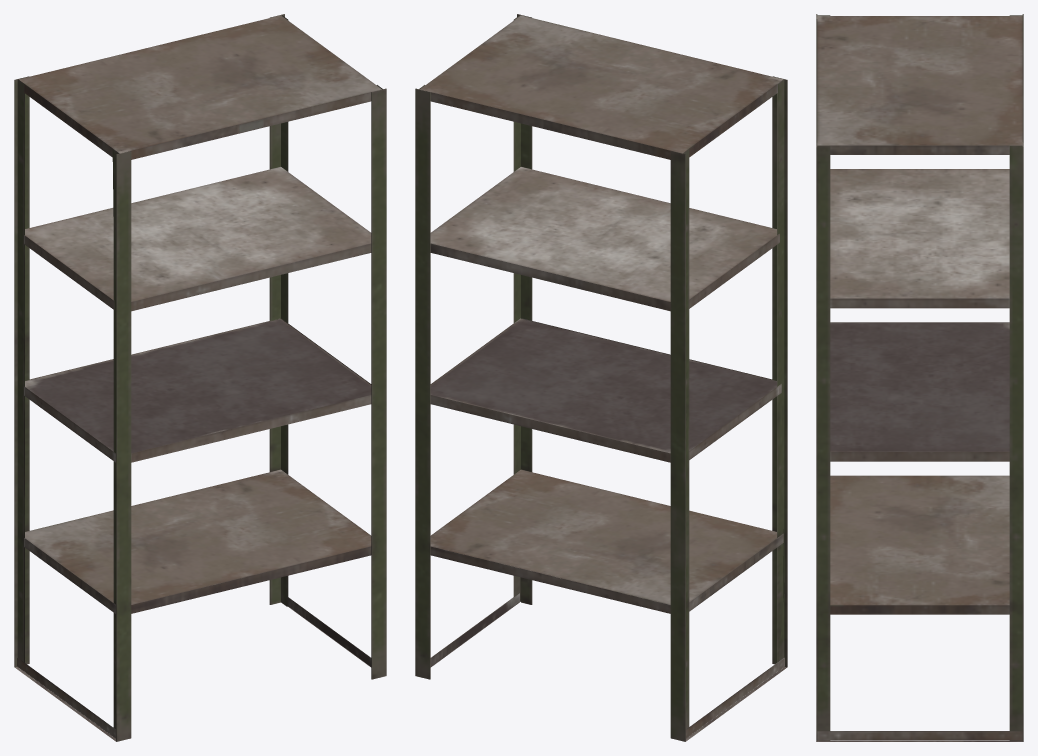
Rendered from Rack_Metal.fbx.
3 views of the same model, side by side, from view 1: azimuth 30°, elevation 25°; view 2: azimuth 150°, elevation 25°; view 3: azimuth 270°, elevation 25° (orthographic).
Visible parts, largest first — view 1: стеллаж металлический; view 2: стеллаж металлический; view 3: стеллаж металлический.
Boxes of the visible parts, x1,y1,x2,y2 form: стеллаж металлический: [14, 14, 386, 741]; стеллаж металлический: [415, 14, 787, 741]; стеллаж металлический: [816, 14, 1023, 741].
Bounding box in the file's own units: 0.9154 × 1.9 × 0.6.
1 material, 1 textured.
